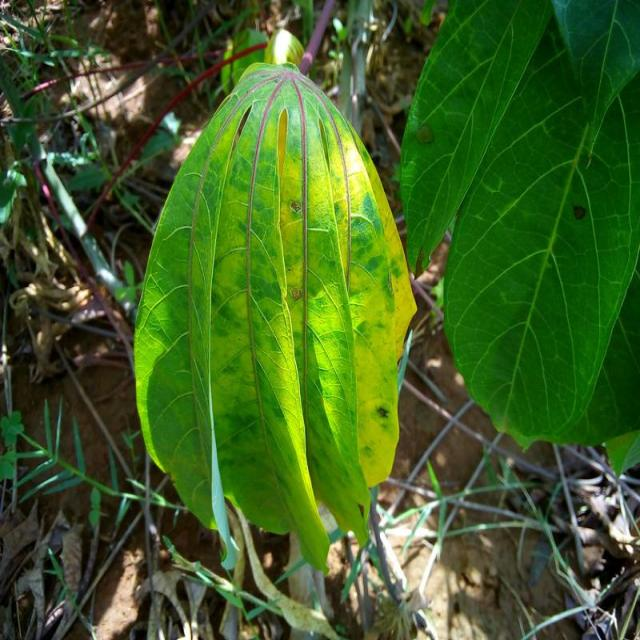cassava leaf: (133, 60, 418, 574), (399, 0, 640, 455)
